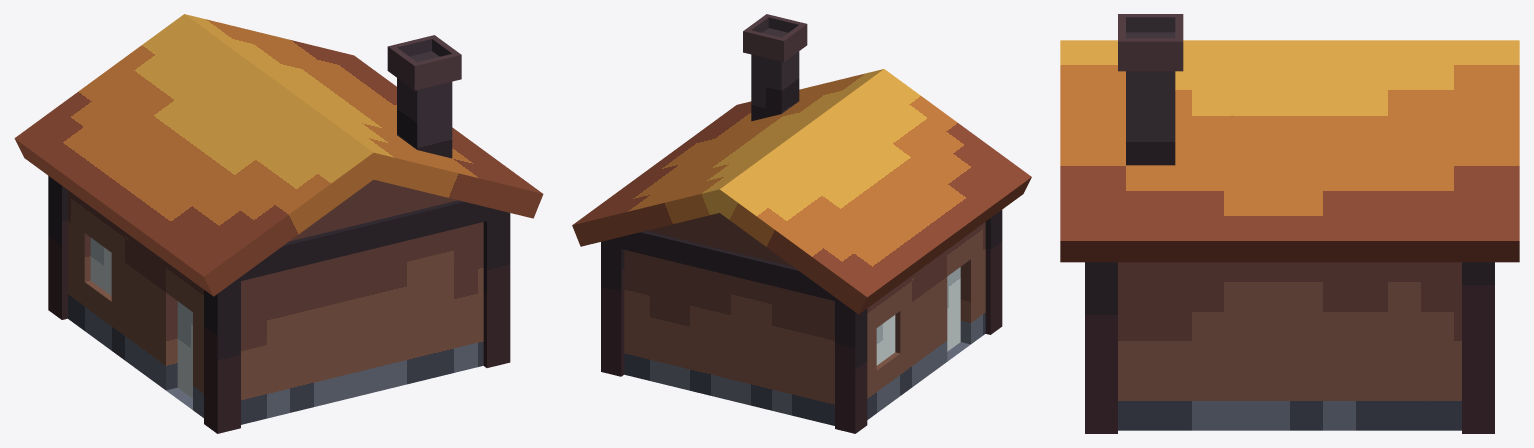
Rendered from houseA.gltf.
3 views of the same model, side by side, from view 1: azimuth 30°, elevation 25°; view 2: azimuth 150°, elevation 25°; view 3: azimuth 270°, elevation 25° (orthographic). The views are drawn at different scales.
Visible parts, largest first — view 1: cube (×11), Body; view 2: cube (×9), Body; view 3: cube (×7), Body.
Boxes of the visible parts, x1,y1,x2,y2 form: cube (×11): (14,14,543,433); Body: (68,179,483,424); cube (×9): (572,22,1031,433); Body: (624,213,985,425); cube (×7): (1060,14,1519,433); Body: (1118,262,1461,430).
Size of the model in its own units: 0.9063 by 0.7812 by 0.875.
1 material, 1 textured.
